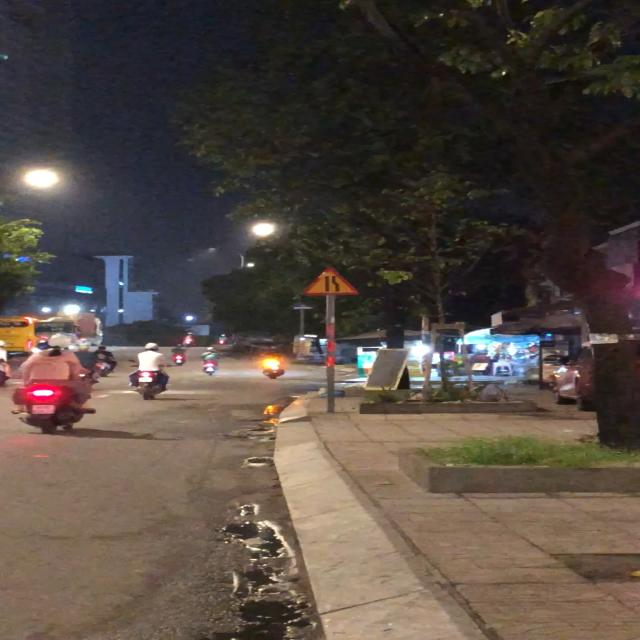Bien bao duong bi thu hep: (297, 264, 367, 298)
